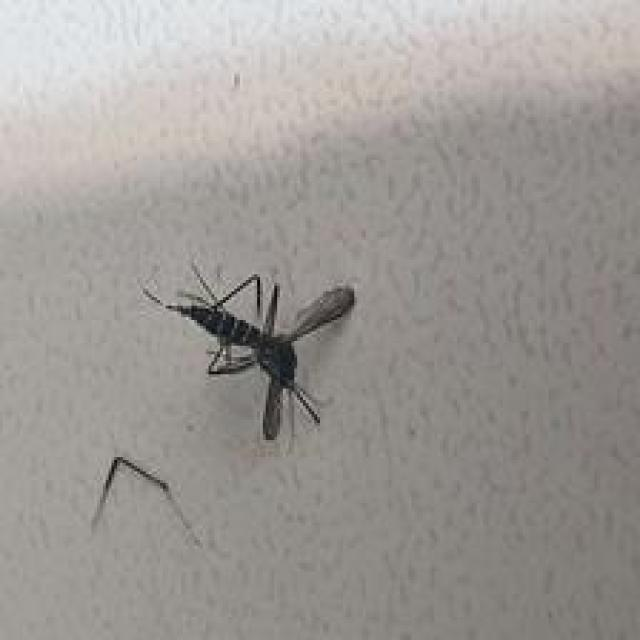Aedes albopictus: (140, 258, 357, 442)
